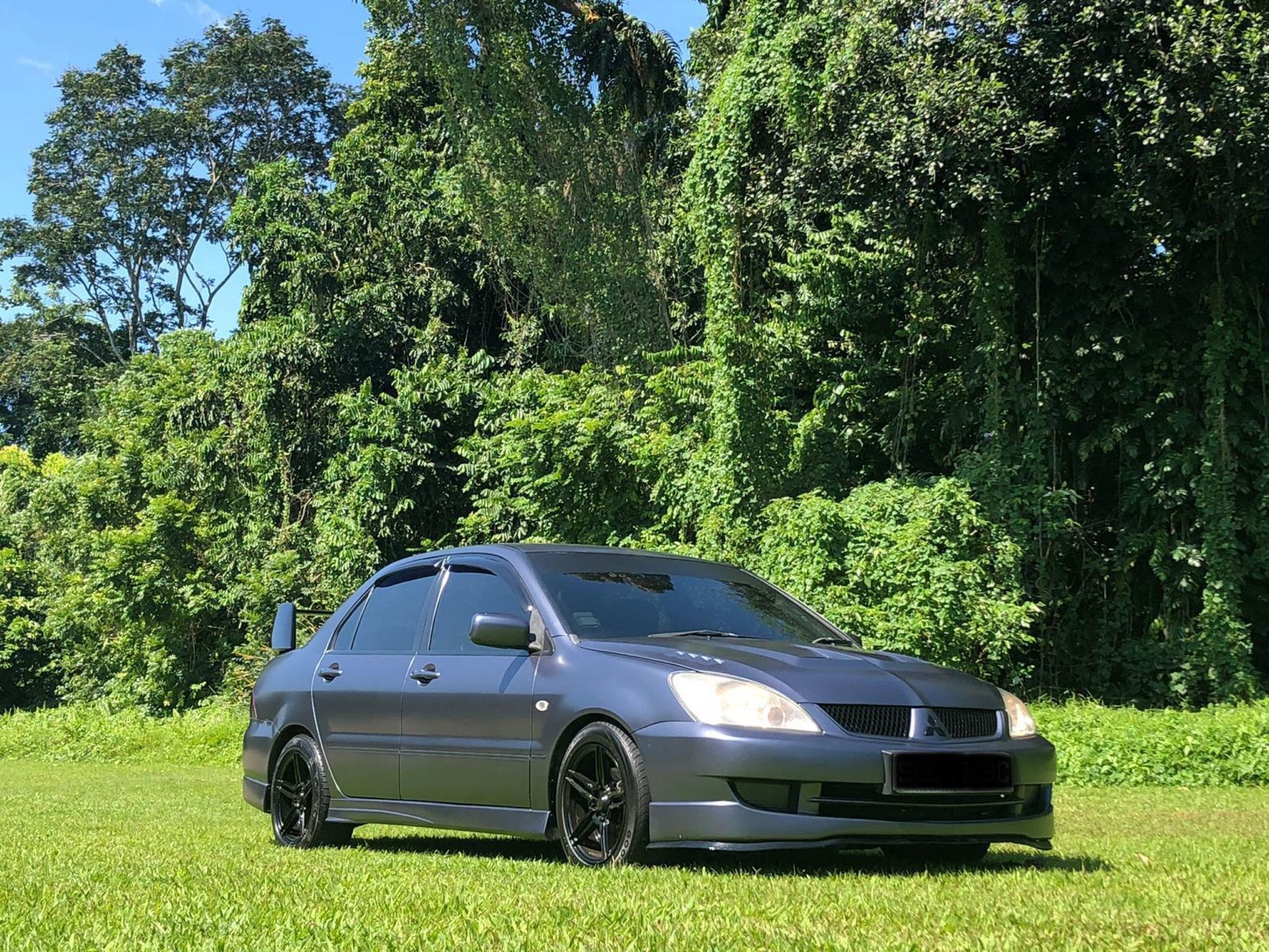other: (232, 542, 1064, 869)
